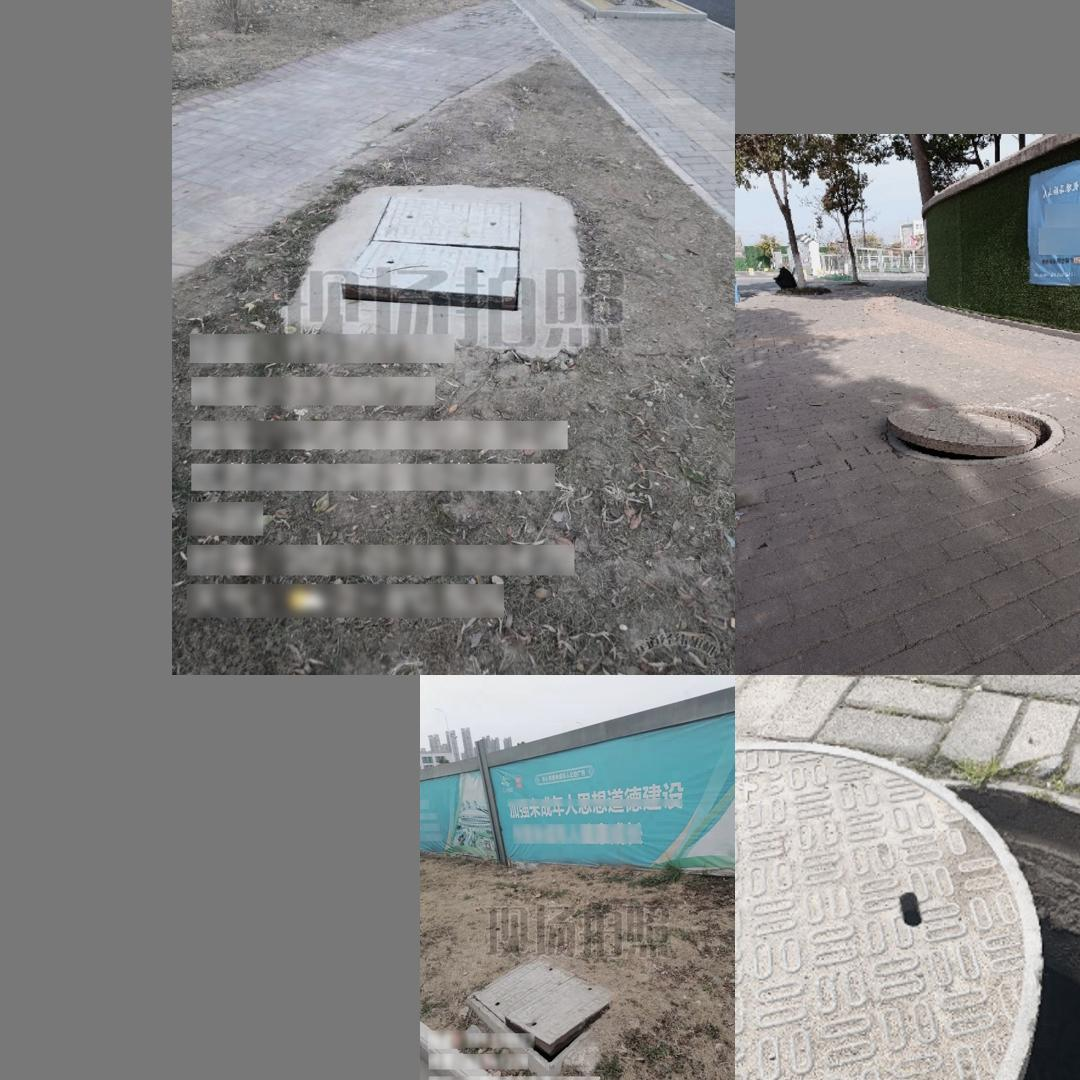uncovered: (735, 752, 1080, 1080), (340, 189, 528, 319), (465, 954, 617, 1065), (884, 407, 1065, 464)
